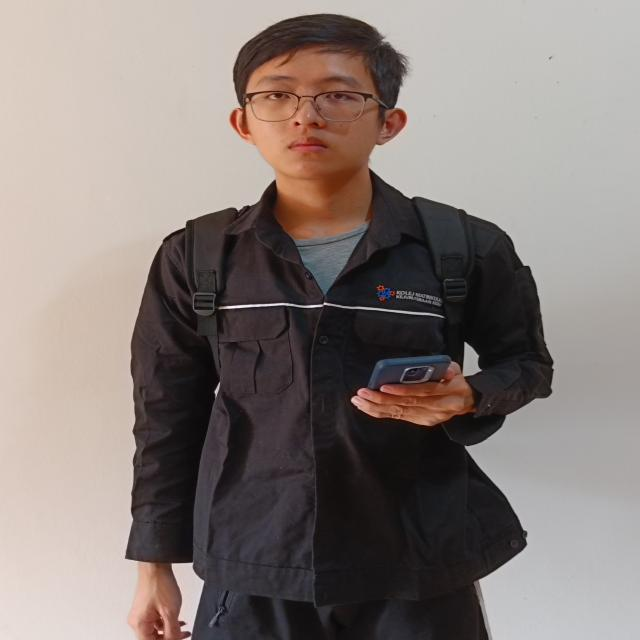person_with_labcoat: (126, 14, 552, 640)
